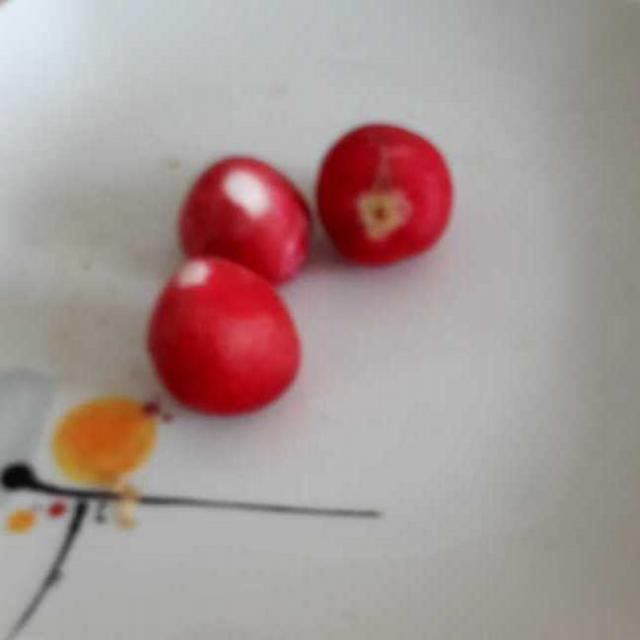red-radish: (119, 124, 465, 423)
